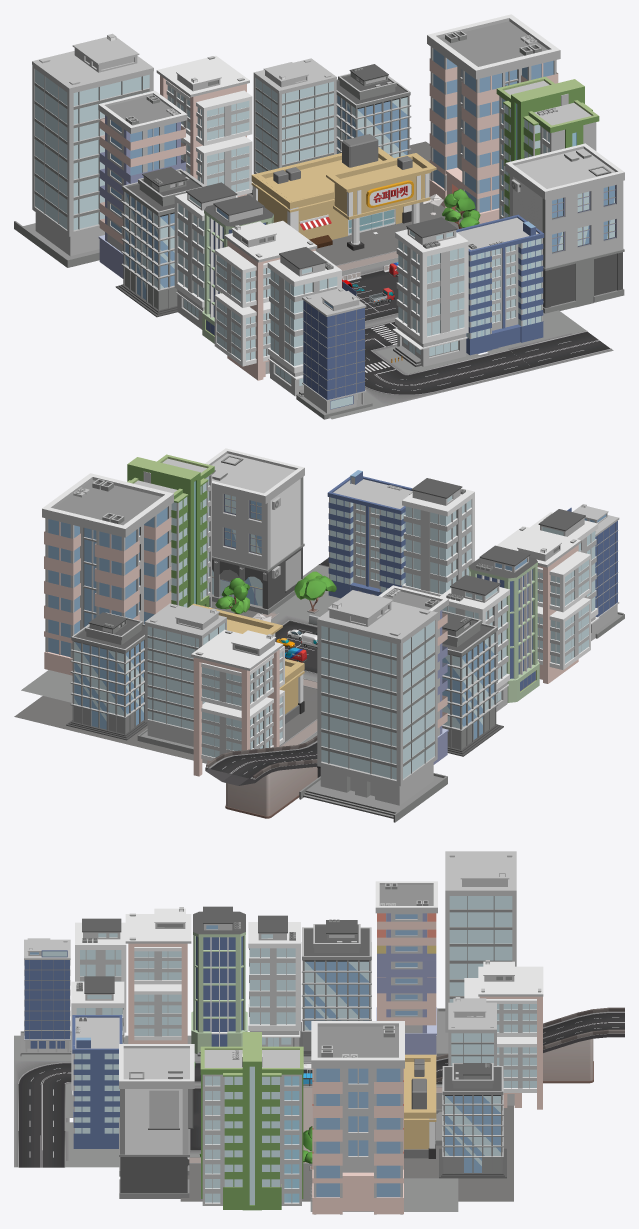
File: mart.glb
3 renders of one model, top to bottom at view 1: azimuth 30°, elevation 25°; view 2: azimuth 150°, elevation 25°; view 3: azimuth 270°, elevation 25°, orthographic. The views are drawn at different scales.
Visible parts, largest first — view 1: SM_home_business_centers_10, SM_home_business_centers_11, SM_home_business_centers_002, polySurface3, SM_home_living_1_5, SM_home_high_8, SM_home_high_6, SM_home_high_005, SM_home_business_centers_7, SM_home_business_centers_8, SM_home_business_centers_006, SM_home_business_centers_004 (+16 smaller); view 2: SM_home_business_centers_10, SM_home_business_centers_11, SM_home_business_centers_002, SM_home_high_6, SM_home_high_8, SM_home_business_centers_9, SM_home_business_centers_8, SM_home_high_005, SM_home_high_004, SM_home_living_1_5, SM_home_business_centers_006, SM_road_018 (+13 smaller); view 3: SM_home_business_centers_11, SM_home_high_004, SM_home_business_centers_002, SM_home_business_centers_7, SM_home_business_centers_10, SM_home_high_005, SM_home_living_1_002, SM_home_business_centers_006, SM_home_business_centers_9, SM_home_high_6, SM_home_living_1_003, SM_home_high_8 (+16 smaller).
Part boxes in pixels (box(x1,y1,x2,y2)): SM_home_business_centers_10: box(14, 33, 153, 267); SM_home_business_centers_11: box(427, 14, 560, 223); SM_home_business_centers_002: box(505, 143, 624, 313); polySurface3: box(251, 134, 436, 250); SM_home_living_1_5: box(392, 217, 468, 366); SM_home_high_8: box(456, 214, 544, 355); SM_home_high_6: box(156, 55, 252, 197); SM_home_high_005: box(214, 220, 317, 380); SM_home_business_centers_7: box(98, 90, 187, 278); SM_home_business_centers_8: box(250, 58, 336, 194); SM_home_business_centers_006: box(115, 167, 205, 317); SM_home_business_centers_004: box(296, 281, 372, 419); SM_home_business_centers_10: box(299, 590, 447, 822); SM_home_business_centers_11: box(42, 473, 173, 675); SM_home_business_centers_002: box(205, 448, 304, 614); SM_home_high_6: box(191, 629, 284, 776); SM_home_high_8: box(327, 470, 412, 598); SM_home_business_centers_9: box(66, 612, 147, 740); SM_home_business_centers_8: box(137, 603, 226, 754); SM_home_high_005: box(496, 526, 590, 683); SM_home_high_004: box(127, 454, 214, 607); SM_home_living_1_5: box(402, 478, 474, 596); SM_home_business_centers_006: box(442, 610, 503, 756); SM_road_018: box(205, 735, 320, 818); SM_home_business_centers_11: box(311, 1021, 404, 1214); SM_home_high_004: box(200, 1032, 303, 1210); SM_home_business_centers_002: box(119, 1044, 194, 1198); SM_home_business_centers_7: box(375, 881, 437, 1054); SM_home_business_centers_10: box(437, 851, 516, 1055); SM_home_high_005: box(125, 907, 191, 1043); SM_home_living_1_002: box(191, 906, 247, 1056); SM_home_business_centers_006: box(299, 919, 371, 1056); SM_home_business_centers_9: box(439, 1063, 506, 1178); SM_home_high_6: box(464, 960, 543, 1109); SM_home_living_1_003: box(248, 915, 300, 1046); SM_home_high_8: box(72, 1015, 122, 1148).
Bounding box in the file's own units: 127 × 54.15 × 165.
6 materials, 5 textured.
